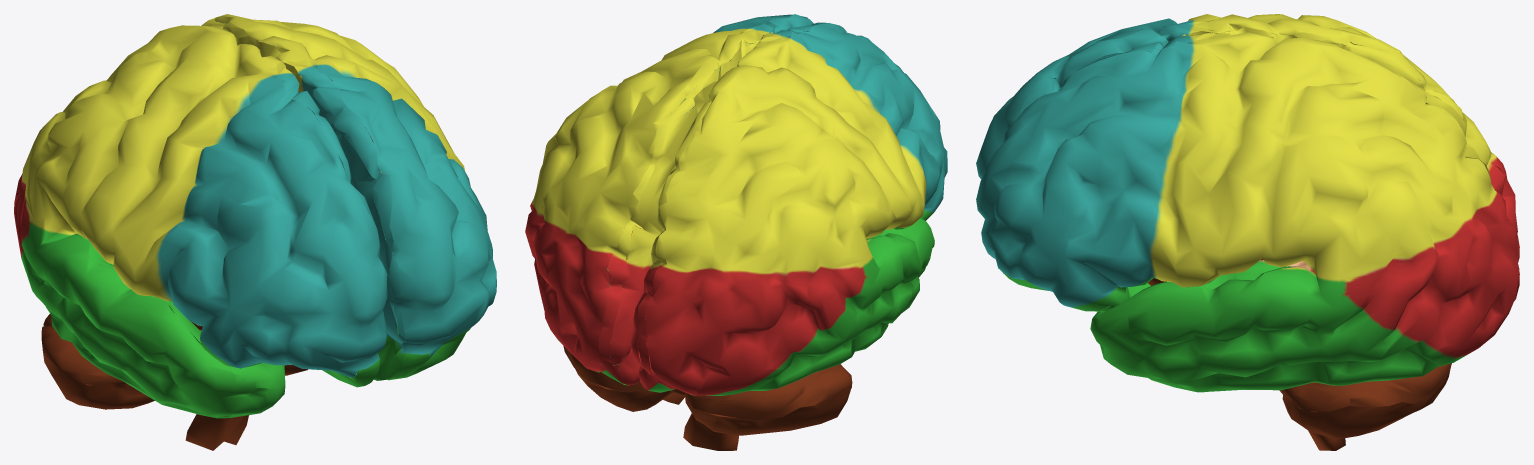
Rendered from 无标题62.glb.
3 views of the same model, side by side, from view 1: azimuth 30°, elevation 25°; view 2: azimuth 150°, elevation 25°; view 3: azimuth 270°, elevation 25° (orthographic). The views are drawn at different scales.
Parts seen in each view (by area): view 1: Brain_Part_06, Brain_Part_04, Brain_Part_02, Brain_Part_05; view 2: Brain_Part_06, Brain_Part_04, Brain_Part_02, Brain_Part_05; view 3: Brain_Part_04, Brain_Part_06, Brain_Part_02, Brain_Part_05.
Part boxes in pixels (x1,y1,x2,y2): Brain_Part_06: [14, 25, 387, 418]; Brain_Part_04: [201, 14, 496, 380]; Brain_Part_02: [41, 314, 154, 409]; Brain_Part_05: [169, 305, 249, 450]; Brain_Part_06: [631, 22, 947, 395]; Brain_Part_04: [525, 14, 813, 385]; Brain_Part_02: [563, 346, 852, 435]; Brain_Part_05: [683, 413, 738, 450]; Brain_Part_04: [976, 32, 1519, 392]; Brain_Part_06: [976, 14, 1519, 262]; Brain_Part_02: [1280, 363, 1451, 439]; Brain_Part_05: [1148, 258, 1345, 450].
Bounding box in the file's own units: 1.06 × 1.12 × 1.32.
Materials: 1 (1 with a texture image).
